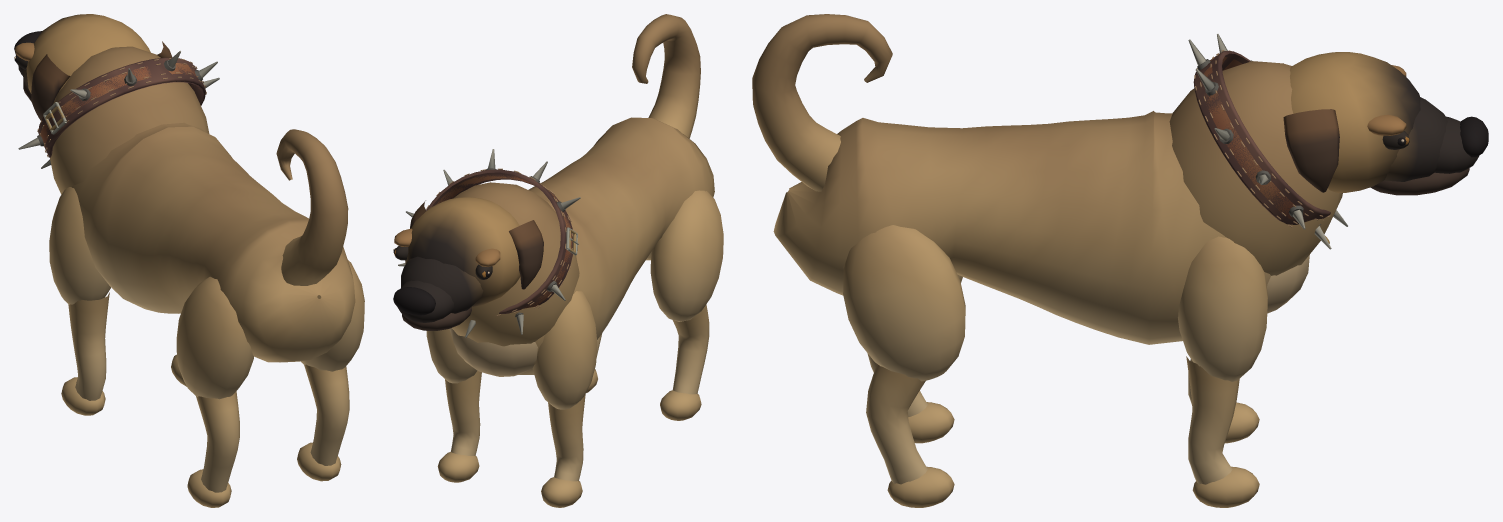
File: karabas.glb
3 views of the same model, side by side, from view 1: azimuth 30°, elevation 25°; view 2: azimuth 150°, elevation 25°; view 3: azimuth 270°, elevation 25° (orthographic). The views are drawn at different scales.
Parts seen in each view (by area): view 1: Coat, Upper leg (×3), Lower leg (×3), Curled tail, Skull, Stitched leather and forged points, Paw mesh (×3), Leather band and brass buckle, Ear fur; view 2: Coat, Upper leg (×3), Skull, Lower leg (×3), Curled tail, Stitched leather and forged points, Paw mesh (×3), Ear fur, Leather band and brass buckle, Lower jaw; view 3: Coat, Upper leg (×2), Skull, Curled tail, Lower leg (×2), Stitched leather and forged points, Paw mesh (×4), Ear fur, Leather band and brass buckle, Lower jaw.
Part boxes in pixels (x1=…): Coat: x1=50, y1=46, x2=355, y2=362; Upper leg (×3): x1=49, y1=187, x2=364, y2=399; Lower leg (×3): x1=68, y1=292, x2=349, y2=492; Curled tail: x1=276, y1=129, x2=348, y2=285; Skull: x1=14, y1=14, x2=150, y2=103; Stitched leather and forged points: x1=18, y1=50, x2=219, y2=168; Paw mesh (×3): x1=61, y1=377, x2=341, y2=507; Leather band and brass buckle: x1=39, y1=63, x2=203, y2=152; Ear fur: x1=31, y1=54, x2=70, y2=120; Coat: x1=449, y1=117, x2=714, y2=376; Upper leg (×3): x1=426, y1=190, x2=723, y2=409; Skull: x1=393, y1=197, x2=520, y2=322; Lower leg (×3): x1=445, y1=304, x2=709, y2=481; Curled tail: x1=632, y1=14, x2=700, y2=138; Stitched leather and forged points: x1=398, y1=149, x2=580, y2=337; Paw mesh (×3): x1=437, y1=390, x2=701, y2=507; Ear fur: x1=509, y1=220, x2=543, y2=289; Leather band and brass buckle: x1=436, y1=172, x2=576, y2=313; Lower jaw: x1=402, y1=307, x2=471, y2=330; Coat: x1=773, y1=61, x2=1342, y2=344; Upper leg (×2): x1=843, y1=225, x2=1267, y2=381; Skull: x1=1290, y1=52, x2=1488, y2=193; Curled tail: x1=752, y1=14, x2=892, y2=191; Lower leg (×2): x1=866, y1=356, x2=1239, y2=484; Stitched leather and forged points: x1=1188, y1=34, x2=1347, y2=249; Paw mesh (×4): x1=887, y1=402, x2=1259, y2=507; Ear fur: x1=1283, y1=109, x2=1339, y2=192; Leather band and brass buckle: x1=1200, y1=54, x2=1329, y2=243; Lower jaw: x1=1370, y1=168, x2=1469, y2=195.
Bounding box in the file's own units: 0.6225 × 1.22 × 1.77.
